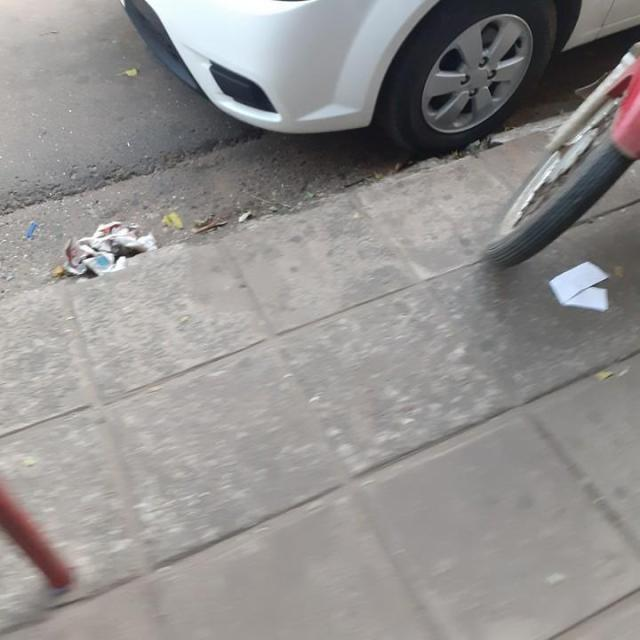litter: (62, 221, 160, 276), (550, 261, 610, 311)
